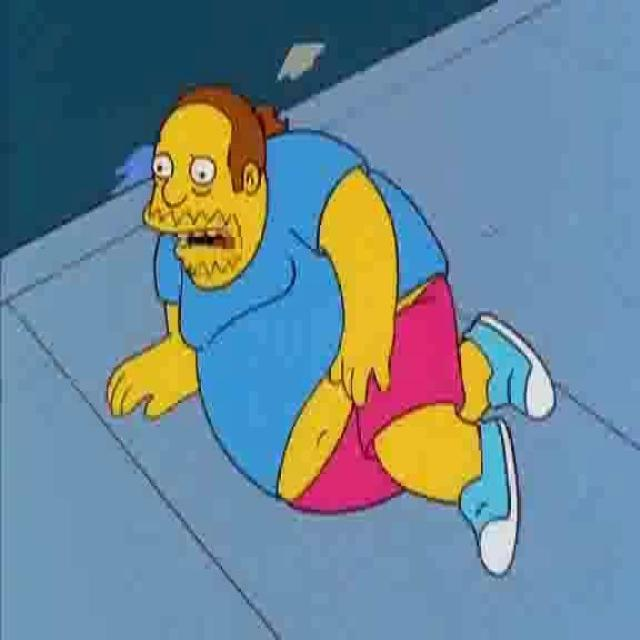Comic Book Guy: (142, 86, 278, 296)
